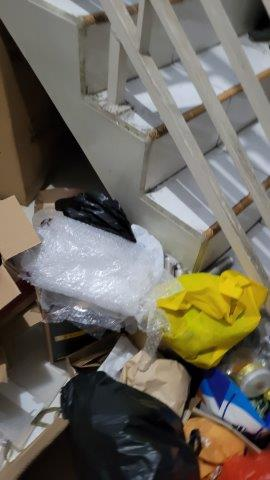plastik: (32, 221, 161, 322), (61, 383, 191, 480)
